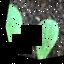Purslane: (0, 0, 64, 64)
